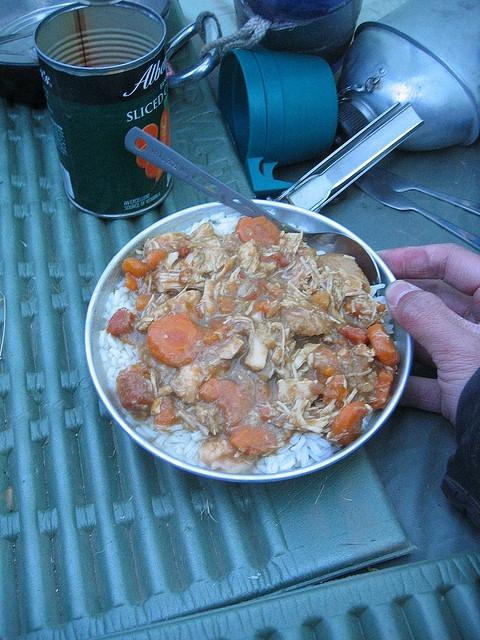carrot: (146, 313, 202, 368), (200, 378, 250, 428), (116, 364, 155, 422), (331, 400, 366, 444), (229, 424, 277, 456), (235, 216, 281, 249), (368, 323, 401, 367), (369, 366, 396, 410), (322, 374, 349, 408), (311, 345, 338, 377), (106, 308, 134, 338), (154, 396, 180, 426), (336, 324, 370, 346), (343, 300, 386, 316), (202, 326, 232, 346), (122, 257, 150, 278), (136, 124, 159, 148), (146, 248, 168, 272), (240, 284, 262, 302), (160, 108, 169, 146), (216, 296, 234, 314), (312, 290, 330, 308), (256, 381, 270, 402), (136, 144, 148, 168), (135, 294, 152, 310), (124, 272, 138, 291), (224, 256, 238, 272), (145, 162, 159, 178), (254, 299, 268, 311)
